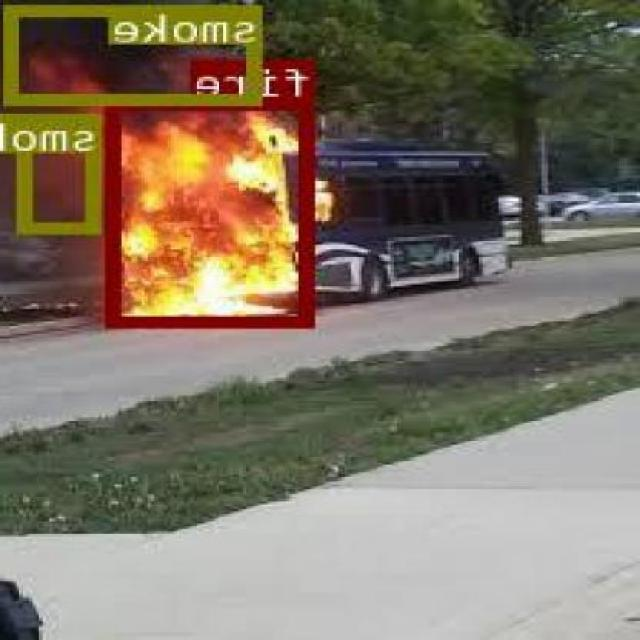Fire: (110, 97, 316, 326)
Smoke: (7, 3, 266, 103), (21, 112, 104, 230)
